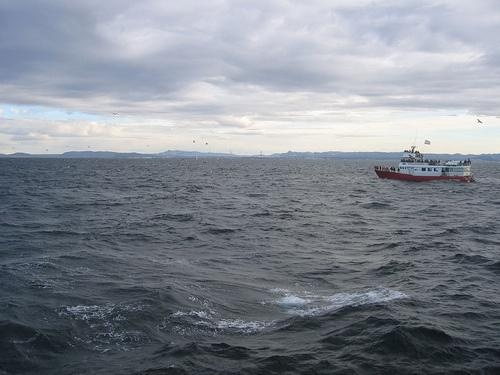boat: (374, 144, 480, 188)
